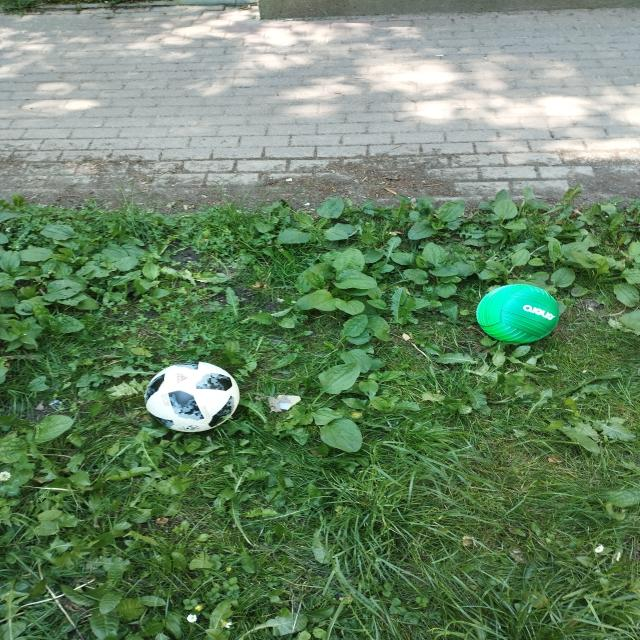nozna: (145, 362, 240, 432)
zielona: (476, 284, 559, 344)
